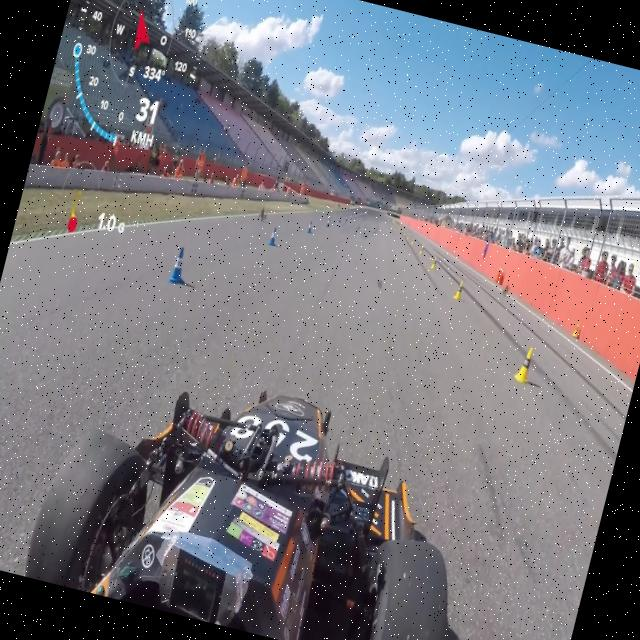blue_cone: (166, 244, 191, 286), (266, 224, 280, 247), (306, 220, 314, 234), (324, 216, 332, 228)
yellow_cone: (510, 342, 537, 386), (452, 278, 466, 302), (428, 256, 438, 270), (418, 244, 424, 255)
